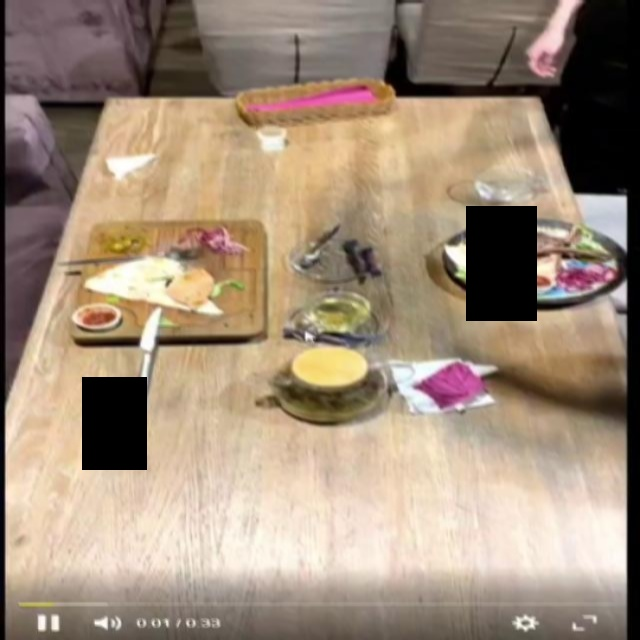meat: (73, 218, 269, 339), (430, 207, 636, 309)
tea: (267, 345, 386, 423)
